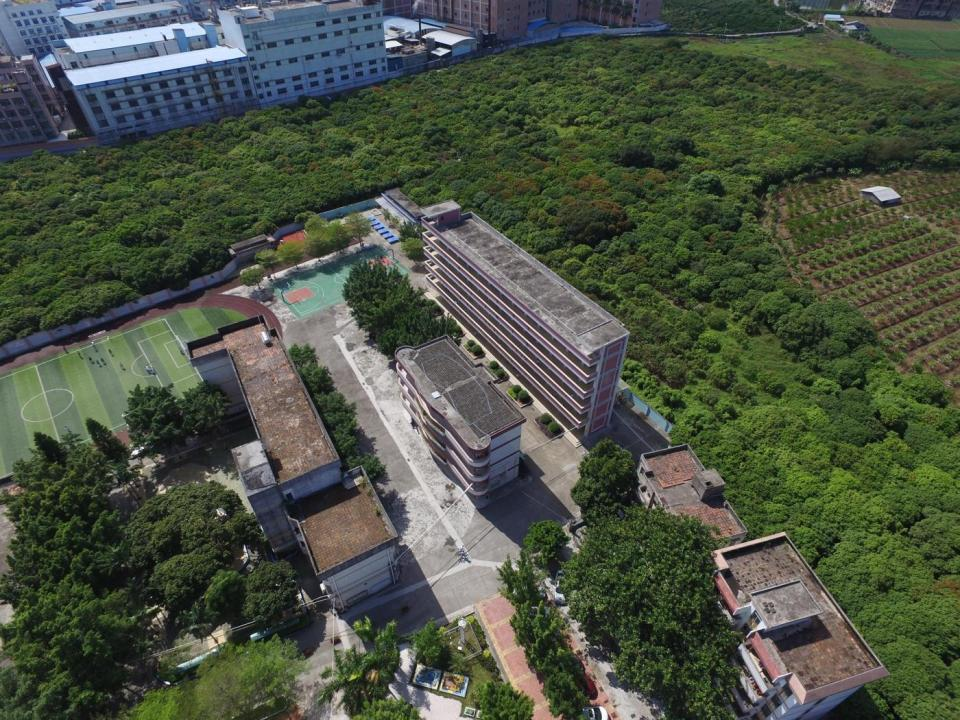car: (594, 509, 625, 534), (563, 705, 611, 720), (556, 676, 595, 694), (554, 570, 571, 602), (512, 586, 547, 600), (550, 654, 580, 670), (520, 606, 551, 620)
